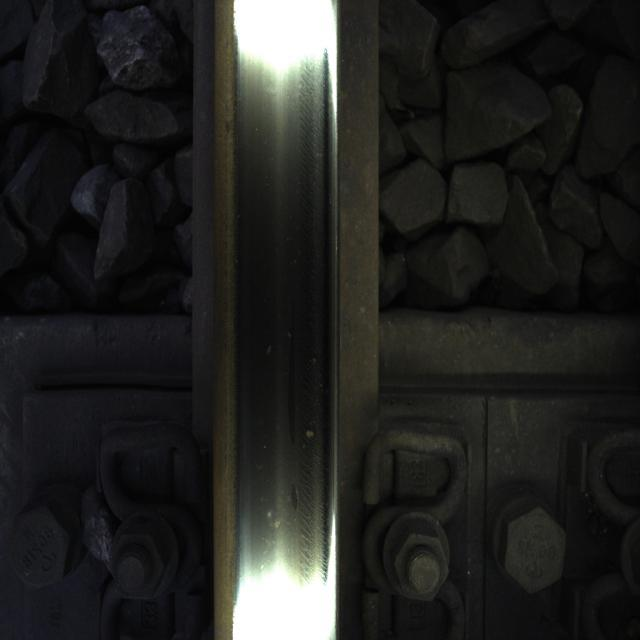break: (234, 51, 334, 530)
